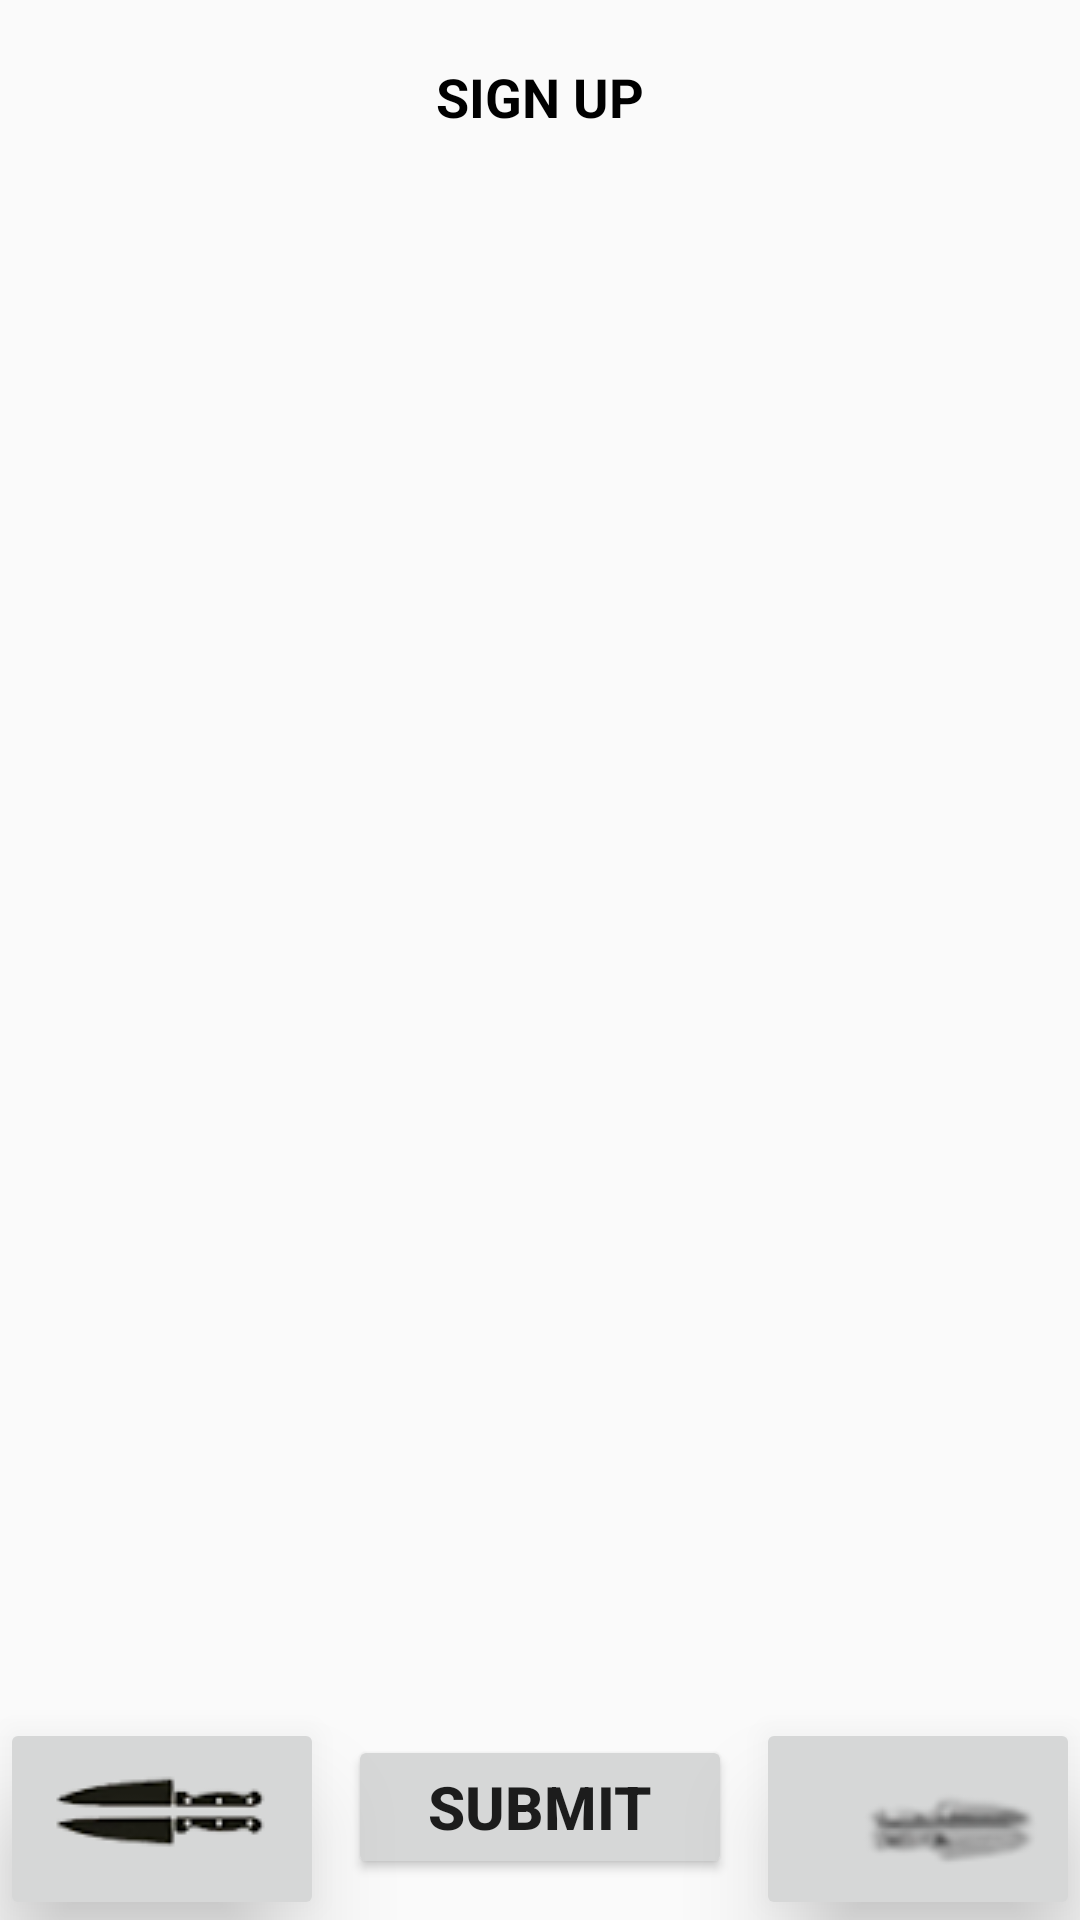

Screen size 1080*1920. Icon name, then its center in pixels as point (x, y):
knives arrow left: point (158, 1828)
